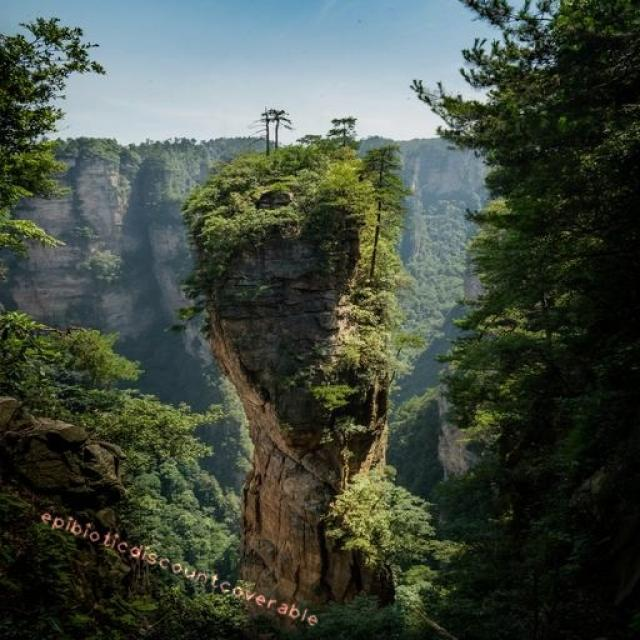watermark: (32, 505, 330, 630)
